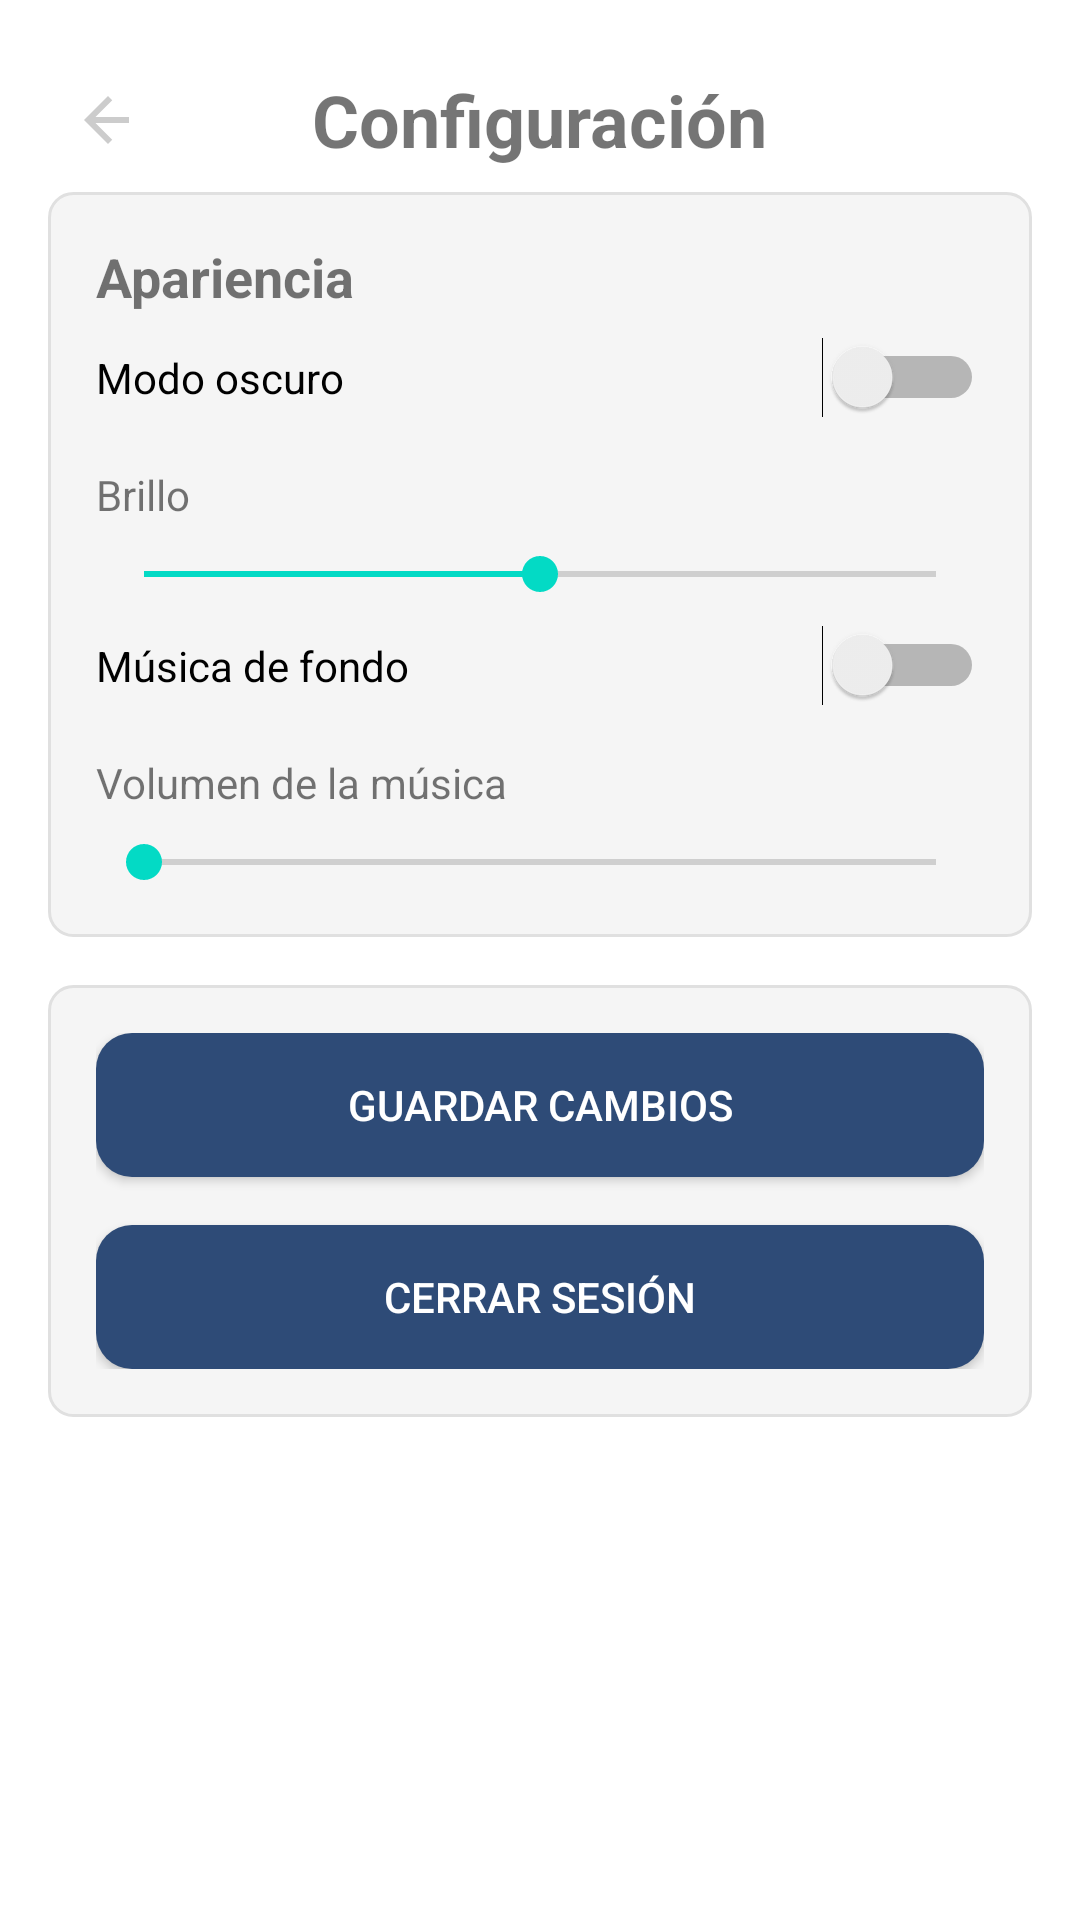

Named icons in this screenshot (1080*1920) and their centers, point (x, y):
Volver: point (106, 120)
